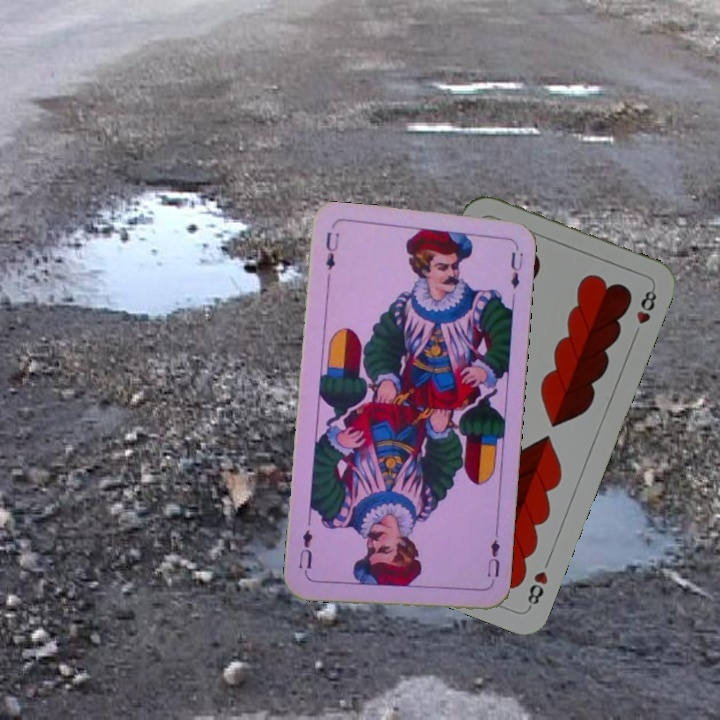EU: (483, 529, 503, 588), (321, 228, 342, 273)
H8: (523, 567, 551, 611)
